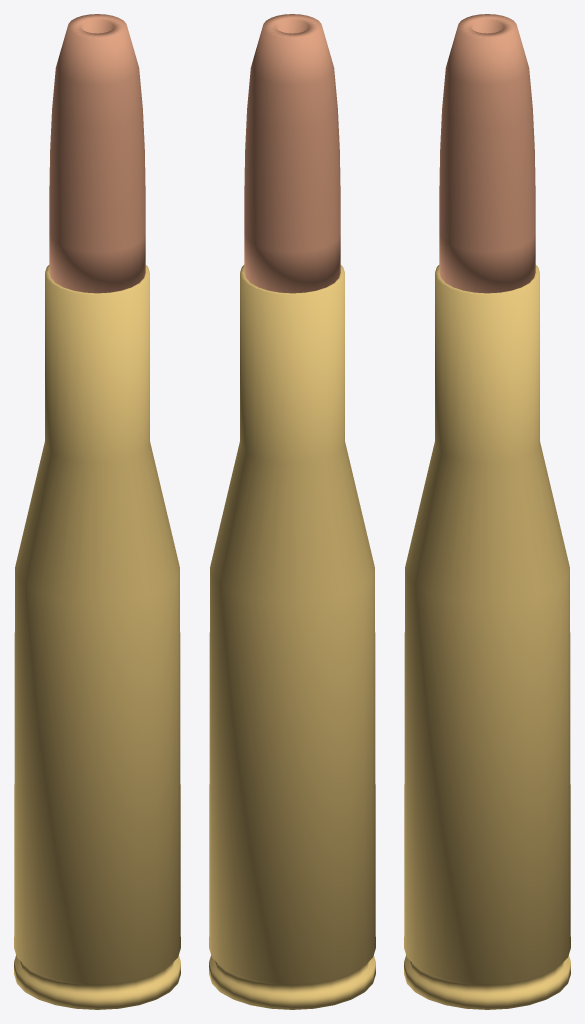
3 renders of one model, left to right at view 1: azimuth 30°, elevation 25°; view 2: azimuth 150°, elevation 25°; view 3: azimuth 270°, elevation 25°, orthographic.
Visible parts, largest first — view 1: vaina, bala_hueca; view 2: vaina, bala_hueca; view 3: vaina, bala_hueca.
Boxes of the visible parts, box(x1,y1,x2,y2) form: vaina: box(14, 265, 180, 1009); bala_hueca: box(49, 14, 145, 293); vaina: box(209, 265, 375, 1009); bala_hueca: box(244, 14, 340, 293); vaina: box(404, 265, 570, 1009); bala_hueca: box(439, 14, 535, 293).
Size of the model in its own units: 0.0149 by 0.0935 by 0.0149.
